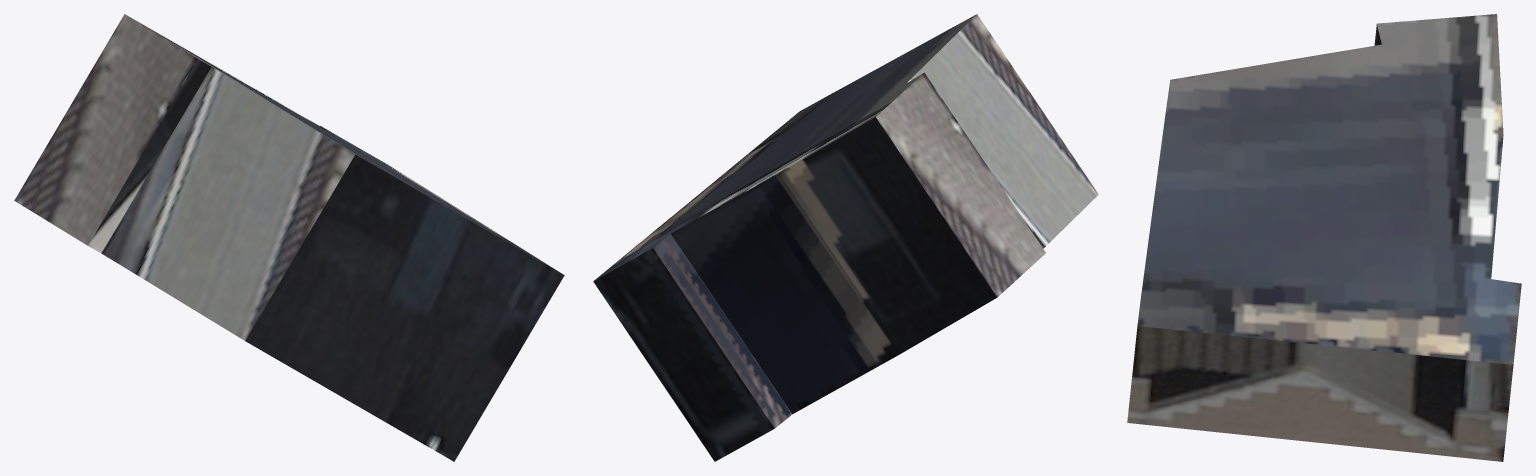
3 views of the same model, side by side, from view 1: azimuth 30°, elevation 25°; view 2: azimuth 150°, elevation 25°; view 3: azimuth 270°, elevation 25° (orthographic). The views are drawn at different scales.
Visible parts, largest first — view 1: BAG_0599100010059655 (×3); view 2: BAG_0599100010059655 (×3); view 3: BAG_0599100010059655.
Boxes of the visible parts, <box> form: BAG_0599100010059655 (×3): <box>14,14,564,461</box>; BAG_0599100010059655 (×3): <box>593,14,1098,461</box>; BAG_0599100010059655: <box>1127,14,1521,461</box>.
Bounding box in the file's own units: 5.3 × 4.94 × 4.74.
Materials: 1 (1 with a texture image).
